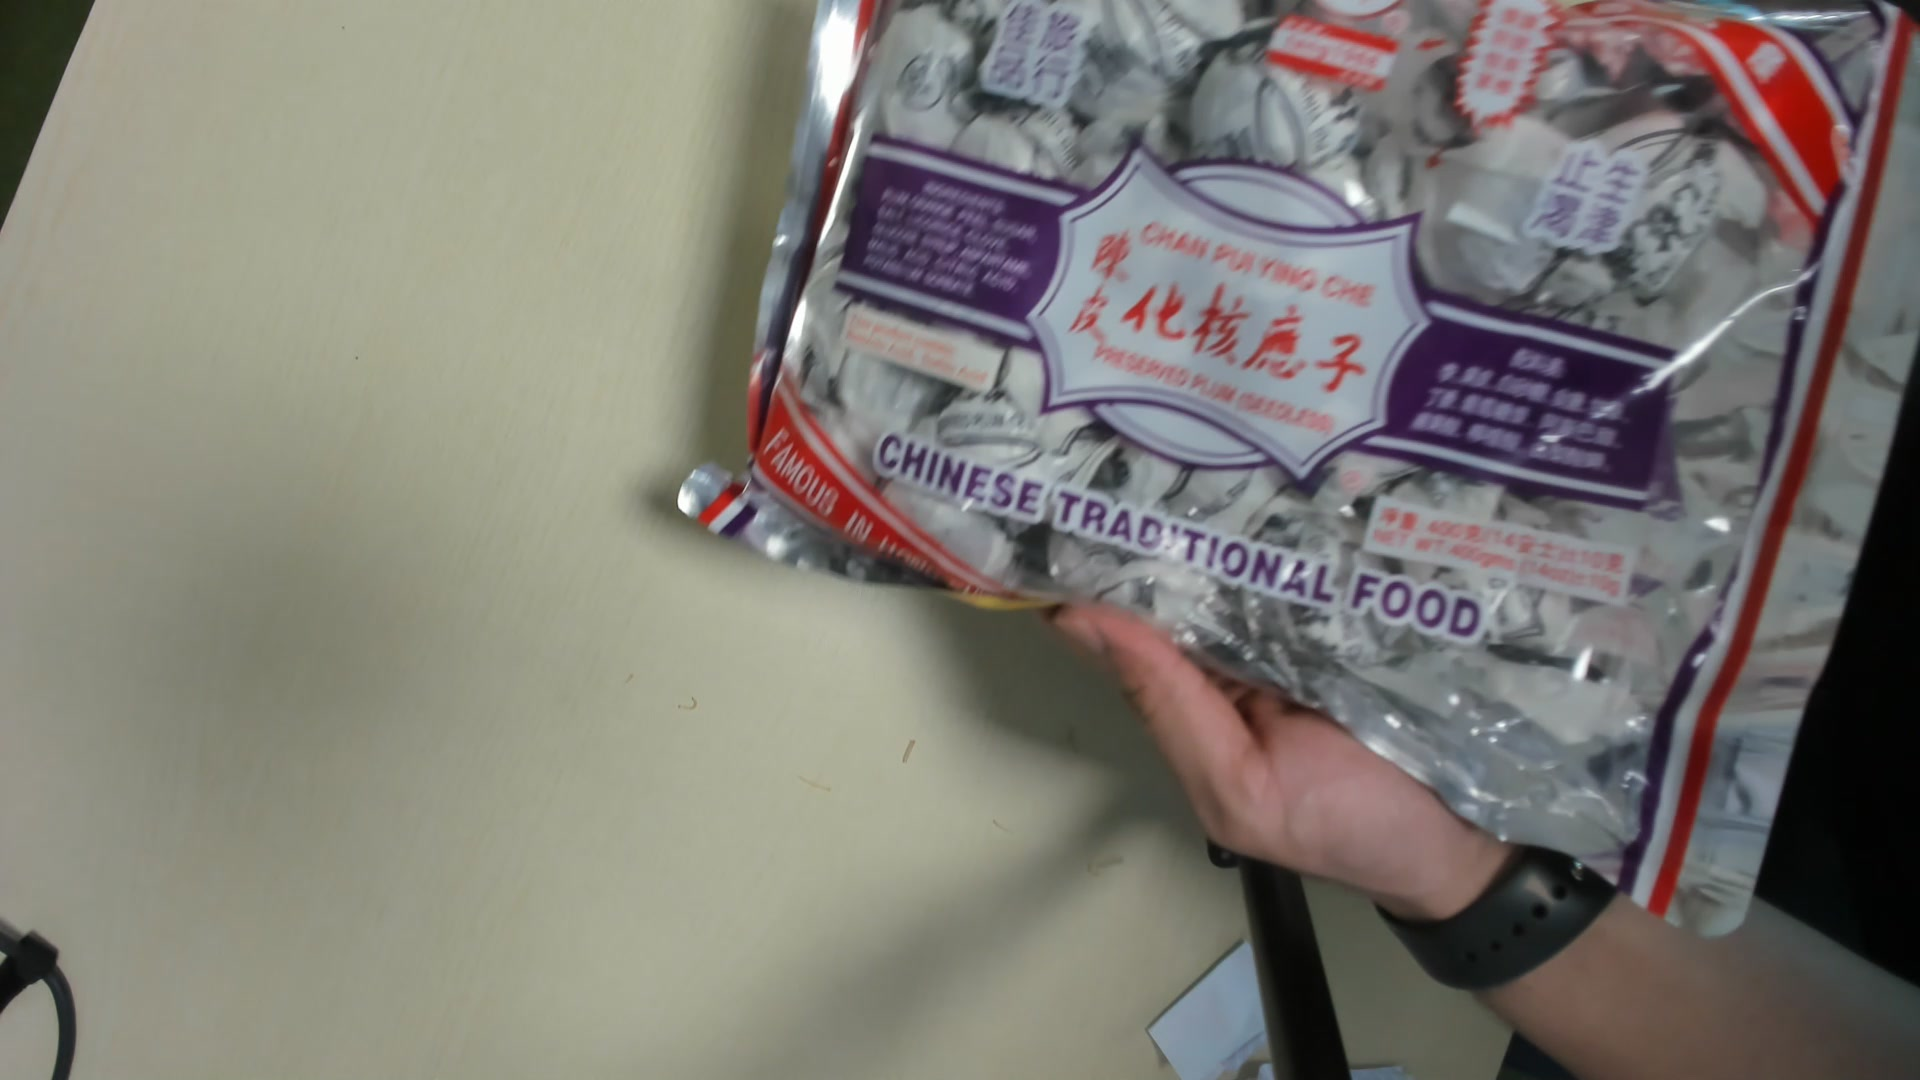SweetsChocolatesOthers_400-499g_NonHalal_Nonhealthy: (691, 3, 1920, 920)
